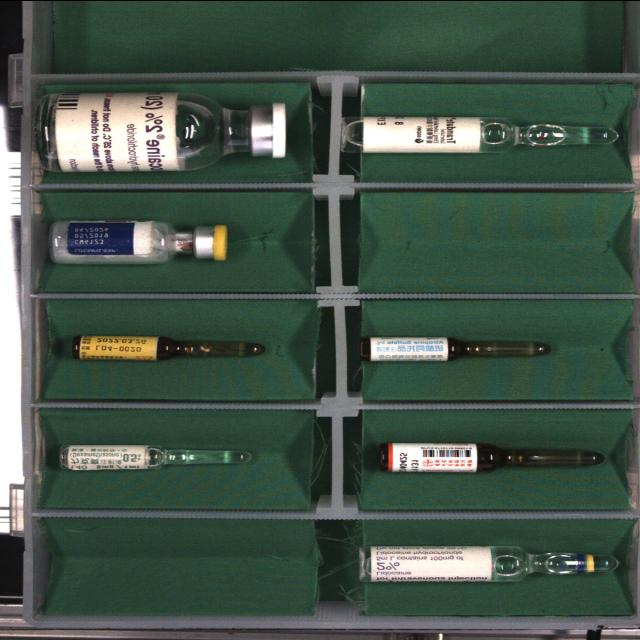Vials: (37, 91, 286, 171), (49, 220, 228, 263)
